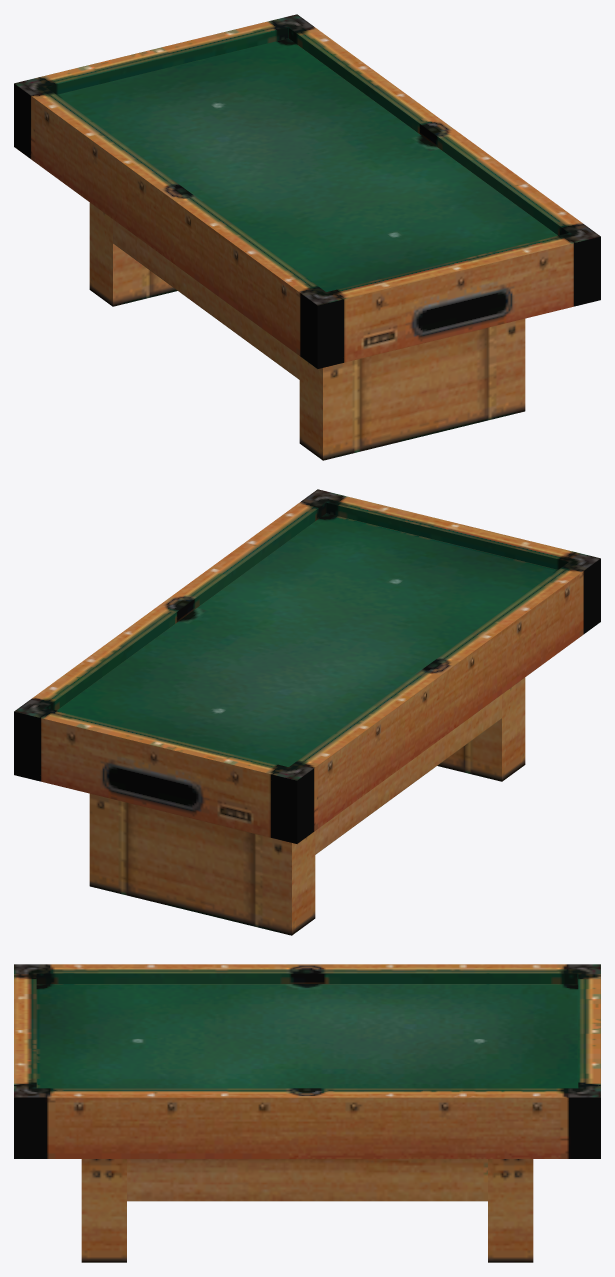
Rendered from pooltable8.fbx.
3 renders of one model, top to bottom at view 1: azimuth 30°, elevation 25°; view 2: azimuth 150°, elevation 25°; view 3: azimuth 270°, elevation 25°, orthographic. The views are drawn at different scales.
Visible parts, largest first — view 1: mesh_0; view 2: mesh_0; view 3: mesh_0.
Part boxes in pixels (x1=…): mesh_0: x1=14, y1=14, x2=600, y2=460; mesh_0: x1=14, y1=489, x2=600, y2=935; mesh_0: x1=14, y1=964, x2=600, y2=1262.
Size of the model in its own units: 140 by 90 by 260.
Materials: 1 (1 with a texture image).
